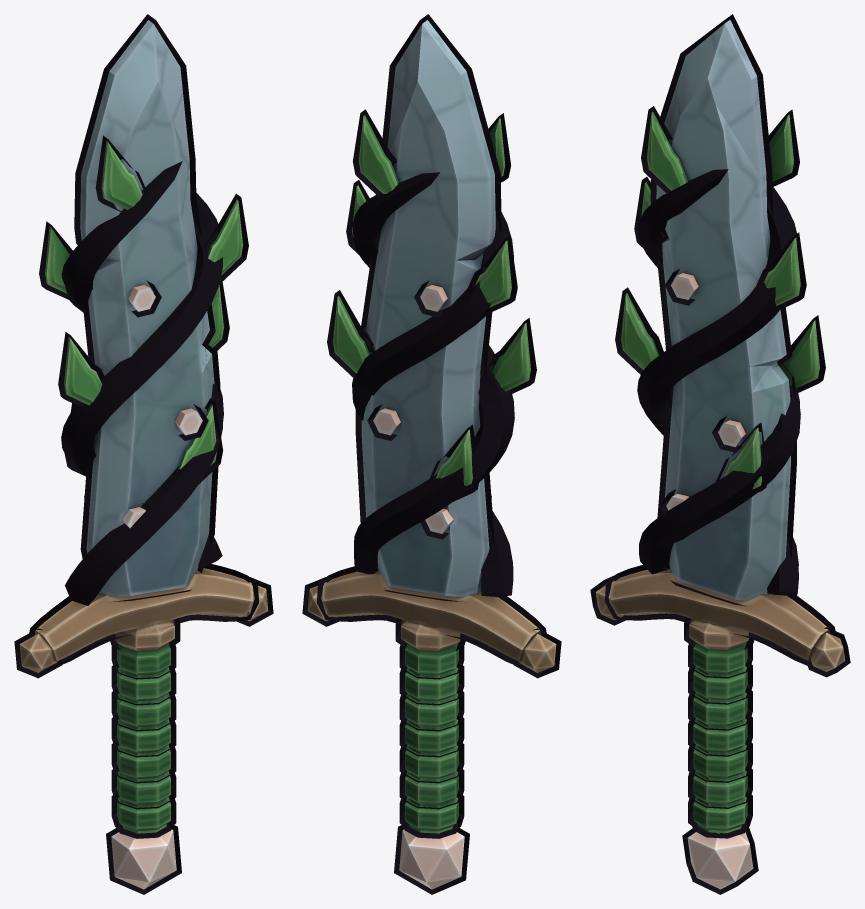
File: KelpBlade.fbx
The picture shows the model from 3 angles, left to right: view 1: azimuth 30°, elevation 25°; view 2: azimuth 150°, elevation 25°; view 3: azimuth 330°, elevation 25°; orthographic projection.
Visible parts, largest first — view 1: KelpBlade, KelpBladeOutline; view 2: KelpBlade, KelpBladeOutline; view 3: KelpBlade, KelpBladeOutline.
Boxes of the visible parts, x1=… form: KelpBlade: x1=19, y1=20, x2=268, y2=889; KelpBladeOutline: x1=14, y1=14, x2=273, y2=894; KelpBlade: x1=307, y1=20, x2=556, y2=889; KelpBladeOutline: x1=302, y1=14, x2=561, y2=894; KelpBlade: x1=595, y1=20, x2=845, y2=889; KelpBladeOutline: x1=590, y1=14, x2=850, y2=894.
Size of the model in its own units: 108 by 357 by 36.26.
2 materials, 1 textured.
